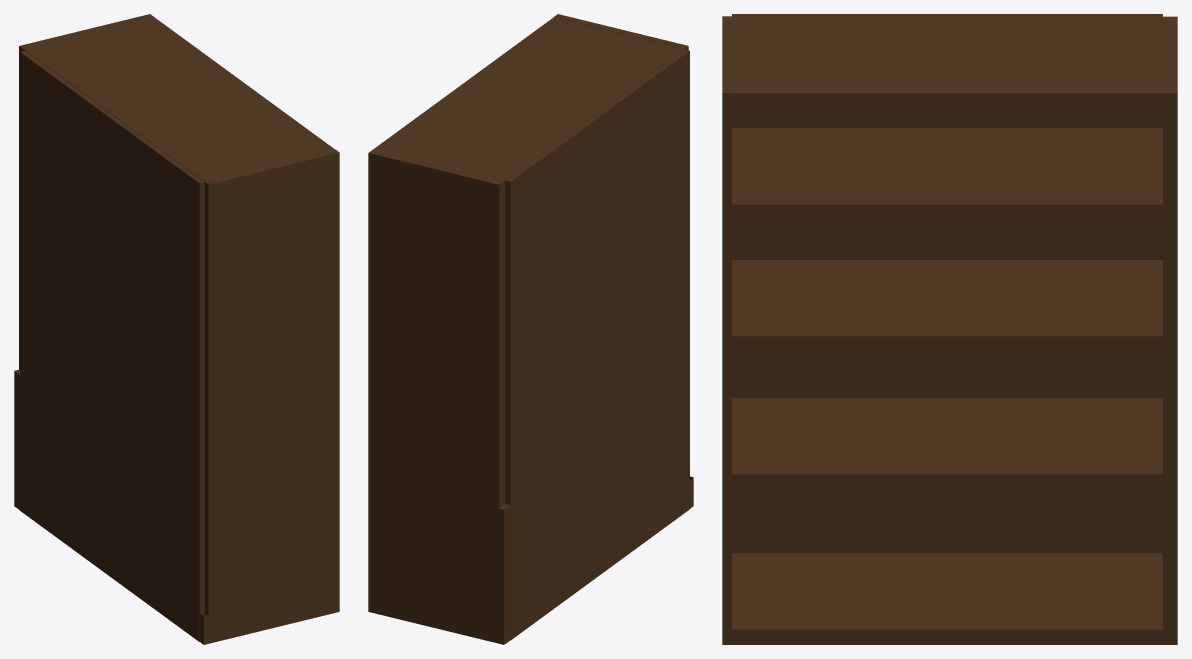
File: bookshelf.fbx
3 renders of one model, left to right at view 1: azimuth 30°, elevation 25°; view 2: azimuth 150°, elevation 25°; view 3: azimuth 270°, elevation 25°, orthographic. The views are drawn at different scales.
Visible parts, largest first — view 1: shelf; view 2: shelf; view 3: shelf.
Boxes of the visible parts, x1,y1,x2,y2 form: shelf: (14, 14, 339, 644); shelf: (368, 14, 693, 644); shelf: (722, 14, 1177, 644).
Size of the model in its own units: 373 by 1201 by 899.
